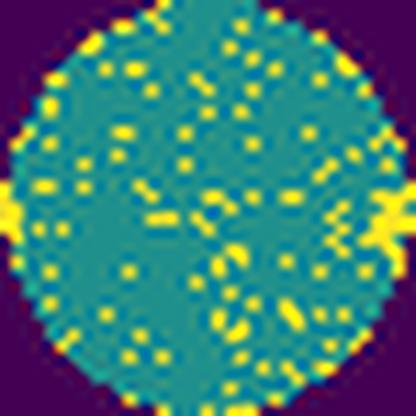Edge-Loc: (360, 174, 416, 281), (0, 173, 29, 250)
